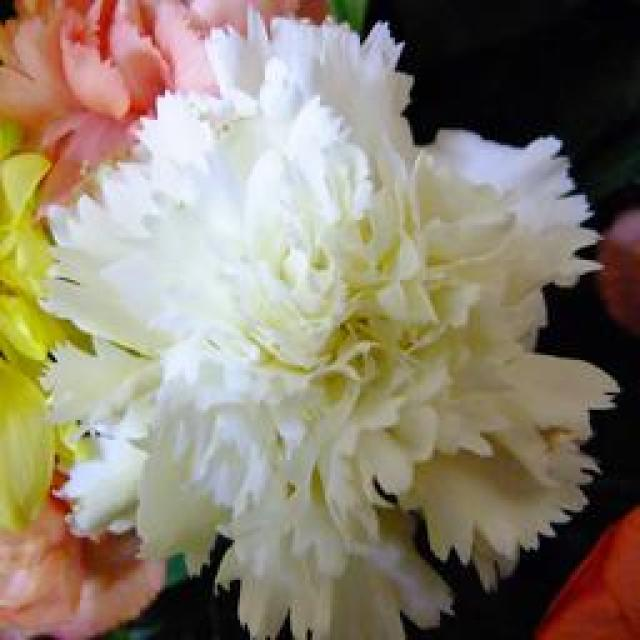carnation: (30, 25, 635, 640)
